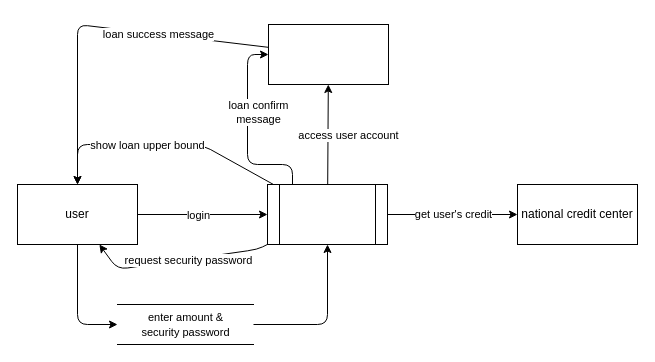
Some shapes in this 655 by 362 pixel diagram are drawn without their labels. The shapes that lost their labels are listed below. From the top down, each one's box as (x1, y1, x2, y2) in pixels, then its label:
(268, 24, 388, 84): financial institution
(266, 184, 388, 244): loan sub-system
